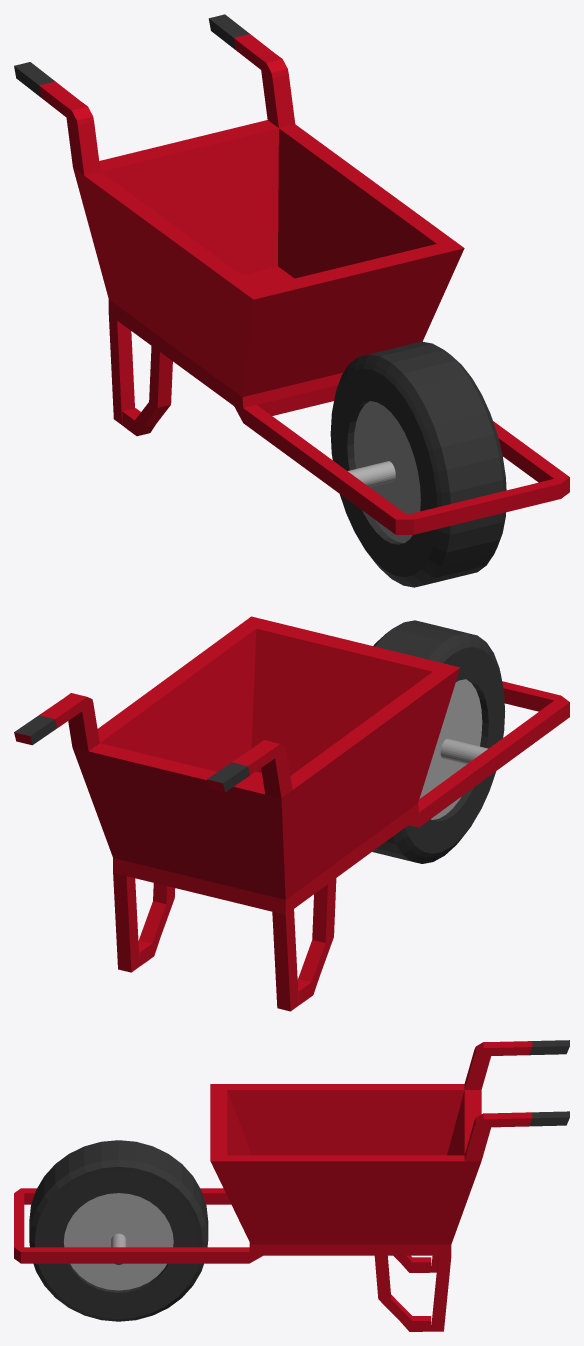
The model's file is Carrinho_De_Mao.fbx.
3 renders of one model, top to bottom at view 1: azimuth 30°, elevation 25°; view 2: azimuth 150°, elevation 25°; view 3: azimuth 270°, elevation 25°, orthographic. The views are drawn at different scales.
Parts seen in each view (by area): view 1: Carrinho, Roda; view 2: Carrinho, Roda; view 3: Carrinho, Roda.
Boxes of the visible parts, <box> form: Carrinho: <box>14,14,569,534</box>; Roda: <box>330,341,506,587</box>; Carrinho: <box>14,616,569,1011</box>; Roda: <box>372,620,505,863</box>; Carrinho: <box>14,1040,569,1331</box>; Roda: <box>29,1140,208,1321</box>.
Bounding box in the file's own units: 262 × 370 × 796.
